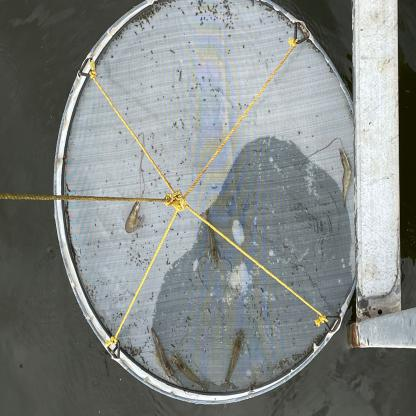shrimp: (170, 353, 212, 392), (151, 328, 176, 380), (199, 209, 219, 271), (224, 330, 245, 388), (339, 148, 352, 210), (125, 200, 143, 234)
